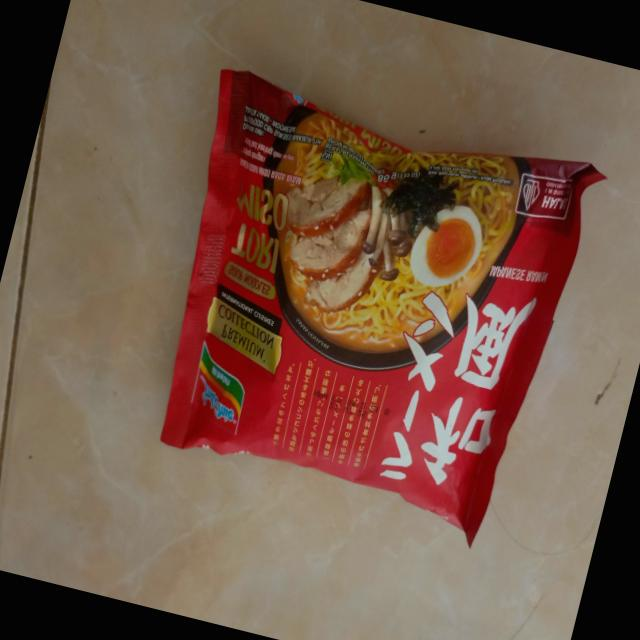indomie-tori-miso: (118, 63, 611, 563)
